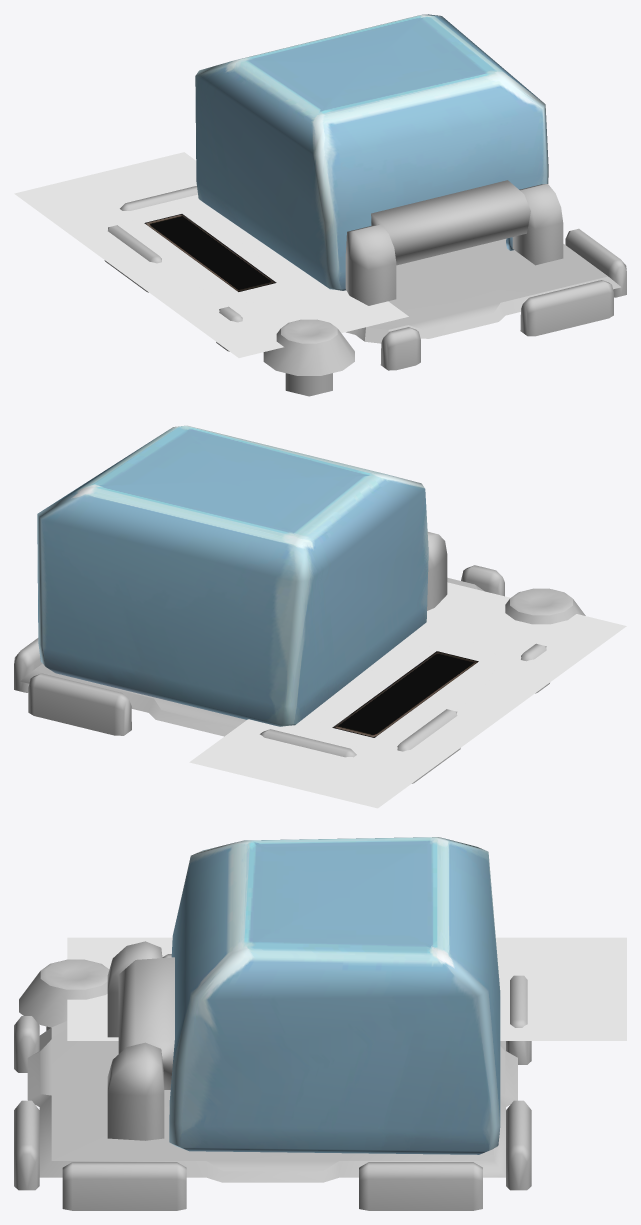
File: ButtonComponent.fbx
3 views of the same model, one above another, from view 1: azimuth 30°, elevation 25°; view 2: azimuth 150°, elevation 25°; view 3: azimuth 270°, elevation 25° (orthographic). The views are drawn at different scales.
Parts seen in each view (by area): view 1: buttonLid, LightGlow, Component_PuzzleBackground, hinge, base, LED_Off; view 2: buttonLid, LightGlow, Component_PuzzleBackground, LED_Off, base; view 3: buttonLid, Component_PuzzleBackground, LightGlow, base, hinge.
Part boxes in pixels (<box>): buttonLid: <box>195,14,548,290</box>; LightGlow: <box>14,152,408,357</box>; Component_PuzzleBackground: <box>104,186,626,396</box>; hinge: <box>371,180,530,265</box>; base: <box>345,184,563,305</box>; LED_Off: <box>144,214,276,291</box>; buttonLid: <box>37,425,428,726</box>; LightGlow: <box>189,582,626,808</box>; Component_PuzzleBackground: <box>14,565,585,783</box>; LED_Off: <box>332,651,478,737</box>; base: <box>427,532,447,610</box>; buttonLid: <box>169,837,500,1154</box>; Component_PuzzleBackground: <box>14,954,531,1210</box>; LightGlow: <box>67,937,626,1040</box>; base: <box>107,941,164,1140</box>; hinge: <box>118,957,174,1089</box>.
Size of the model in its own units: 0.2162 by 0.1062 by 0.2368.
